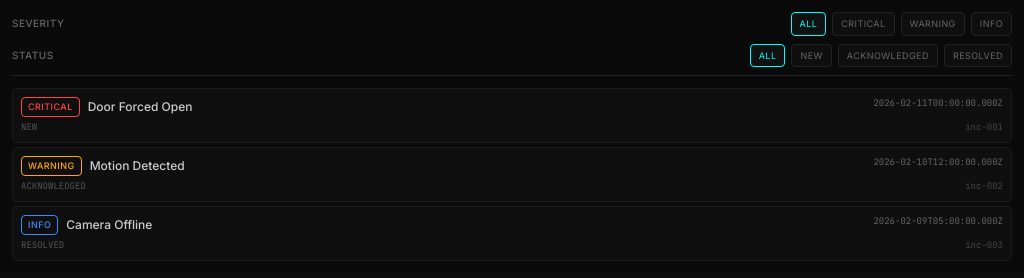
IncidentListModule › filters by severity
The width and height of the screenshot is (1024, 278).
Click the button "Critical". click: (863, 24)
box: [832,12,895,36]
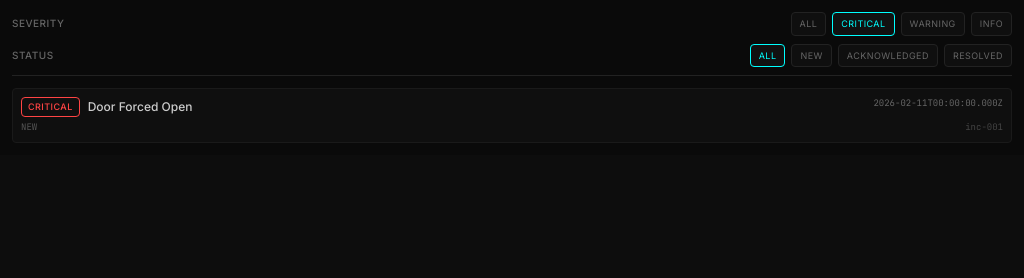
Expected: the text "Door Forced Open" is shown, [88,99,192,115]
Now the button "Motion Detected" is gone
Now the button "Camera Offline" is gone
